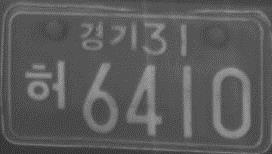0: (211, 66, 252, 139)
1: (177, 60, 198, 140), (174, 22, 193, 58)
3: (140, 19, 168, 58)
4: (124, 63, 164, 136)
6: (80, 61, 122, 136)
경기_O: (79, 20, 139, 55)
허: (23, 57, 67, 111)
